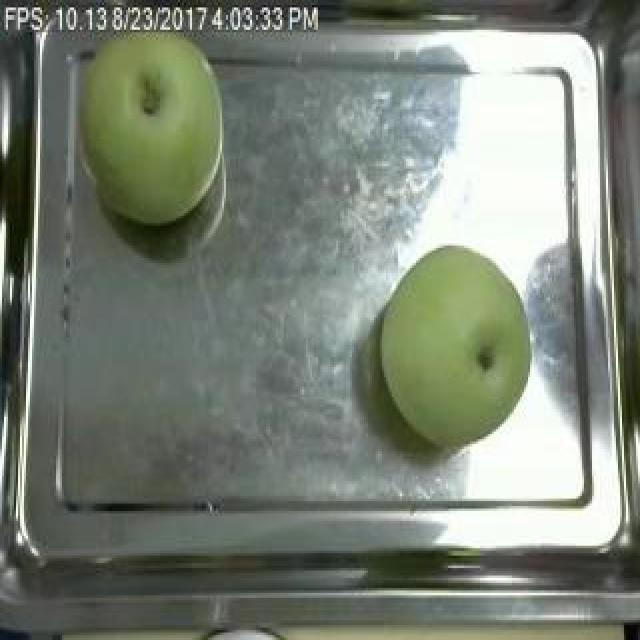Rotten Apple: (379, 242, 541, 448), (69, 32, 235, 231)
